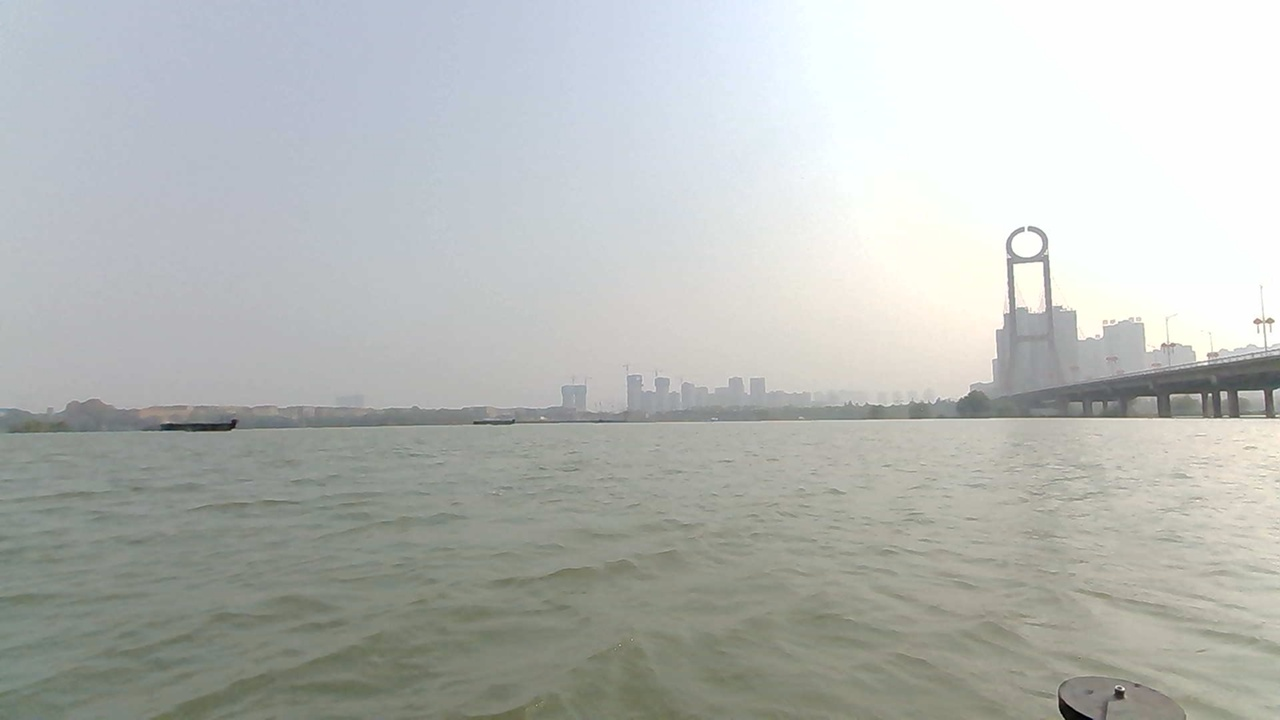bottle: (478, 477, 525, 502)
